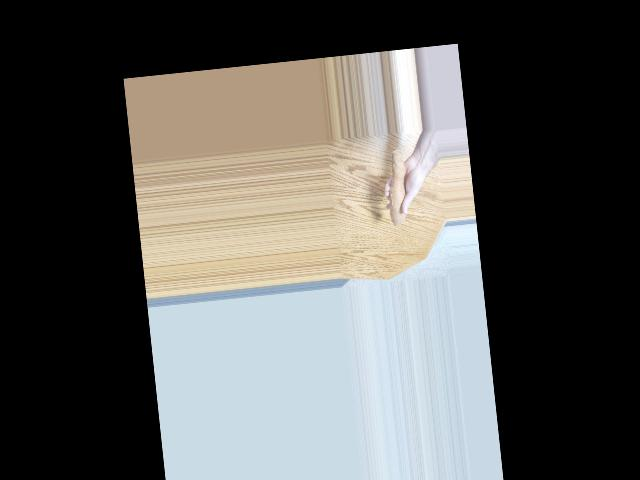sweet_potato: (383, 146, 415, 230)
